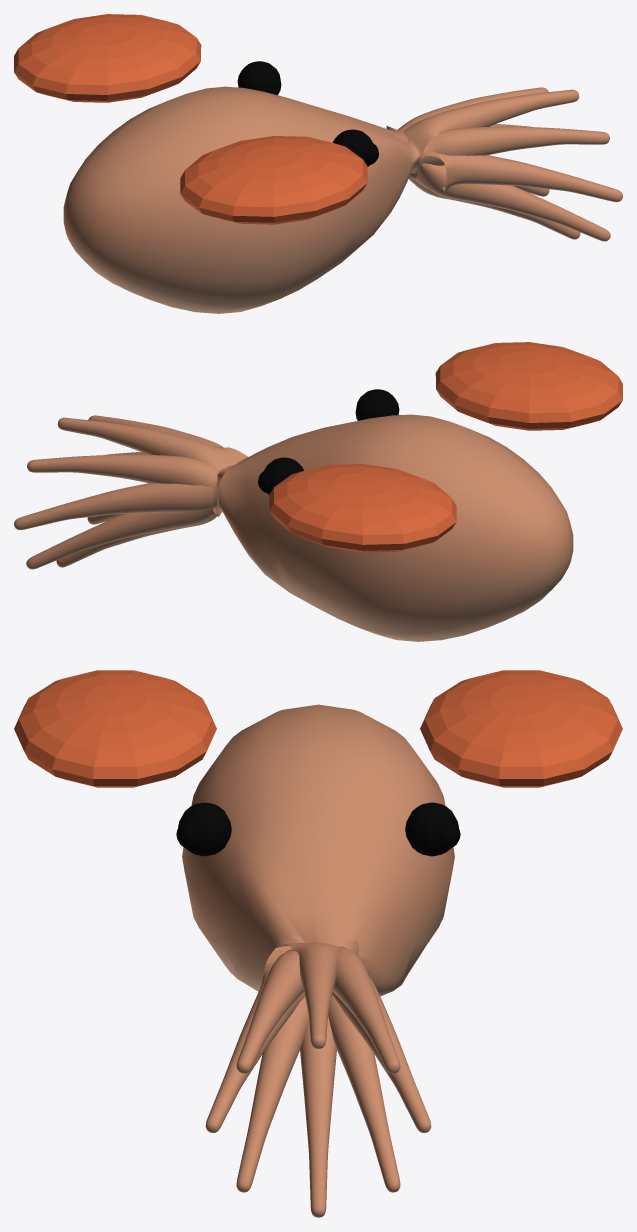
File: polvo_dumbo.glb
The picture shows the model from 3 angles, top to bottom: view 1: azimuth 30°, elevation 25°; view 2: azimuth 150°, elevation 25°; view 3: azimuth 270°, elevation 25°; orthographic projection. The views are drawn at different scales.
Visible parts, largest first — view 1: corpo; view 2: corpo; view 3: corpo.
Part boxes in pixels (bbox=[...]): corpo: bbox=[14, 14, 622, 313]; corpo: bbox=[14, 342, 622, 641]; corpo: bbox=[14, 670, 622, 1217].
Bounding box in the file's own units: 1.45 × 0.6517 × 1.24.
